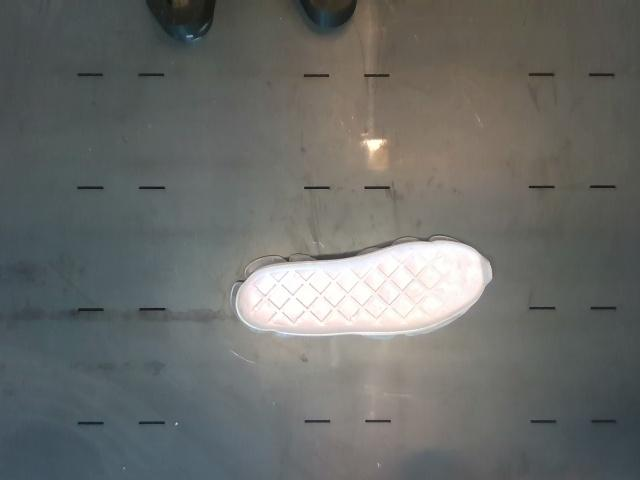shoes: (237, 243, 491, 334)
